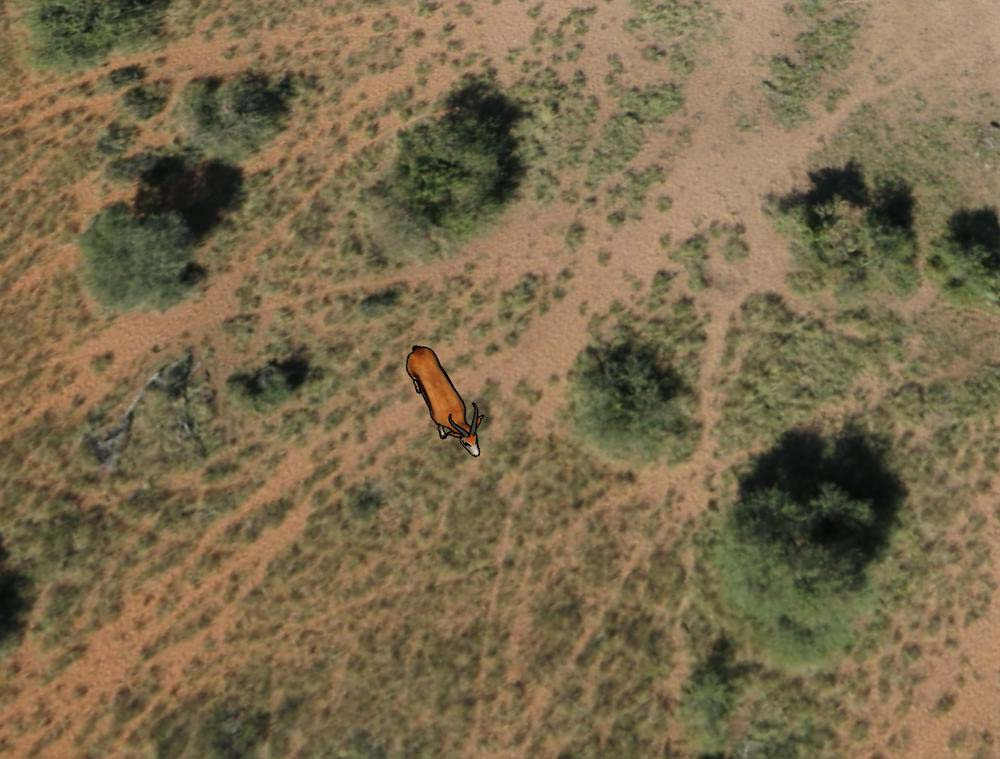springbok: (398, 334, 491, 460)
